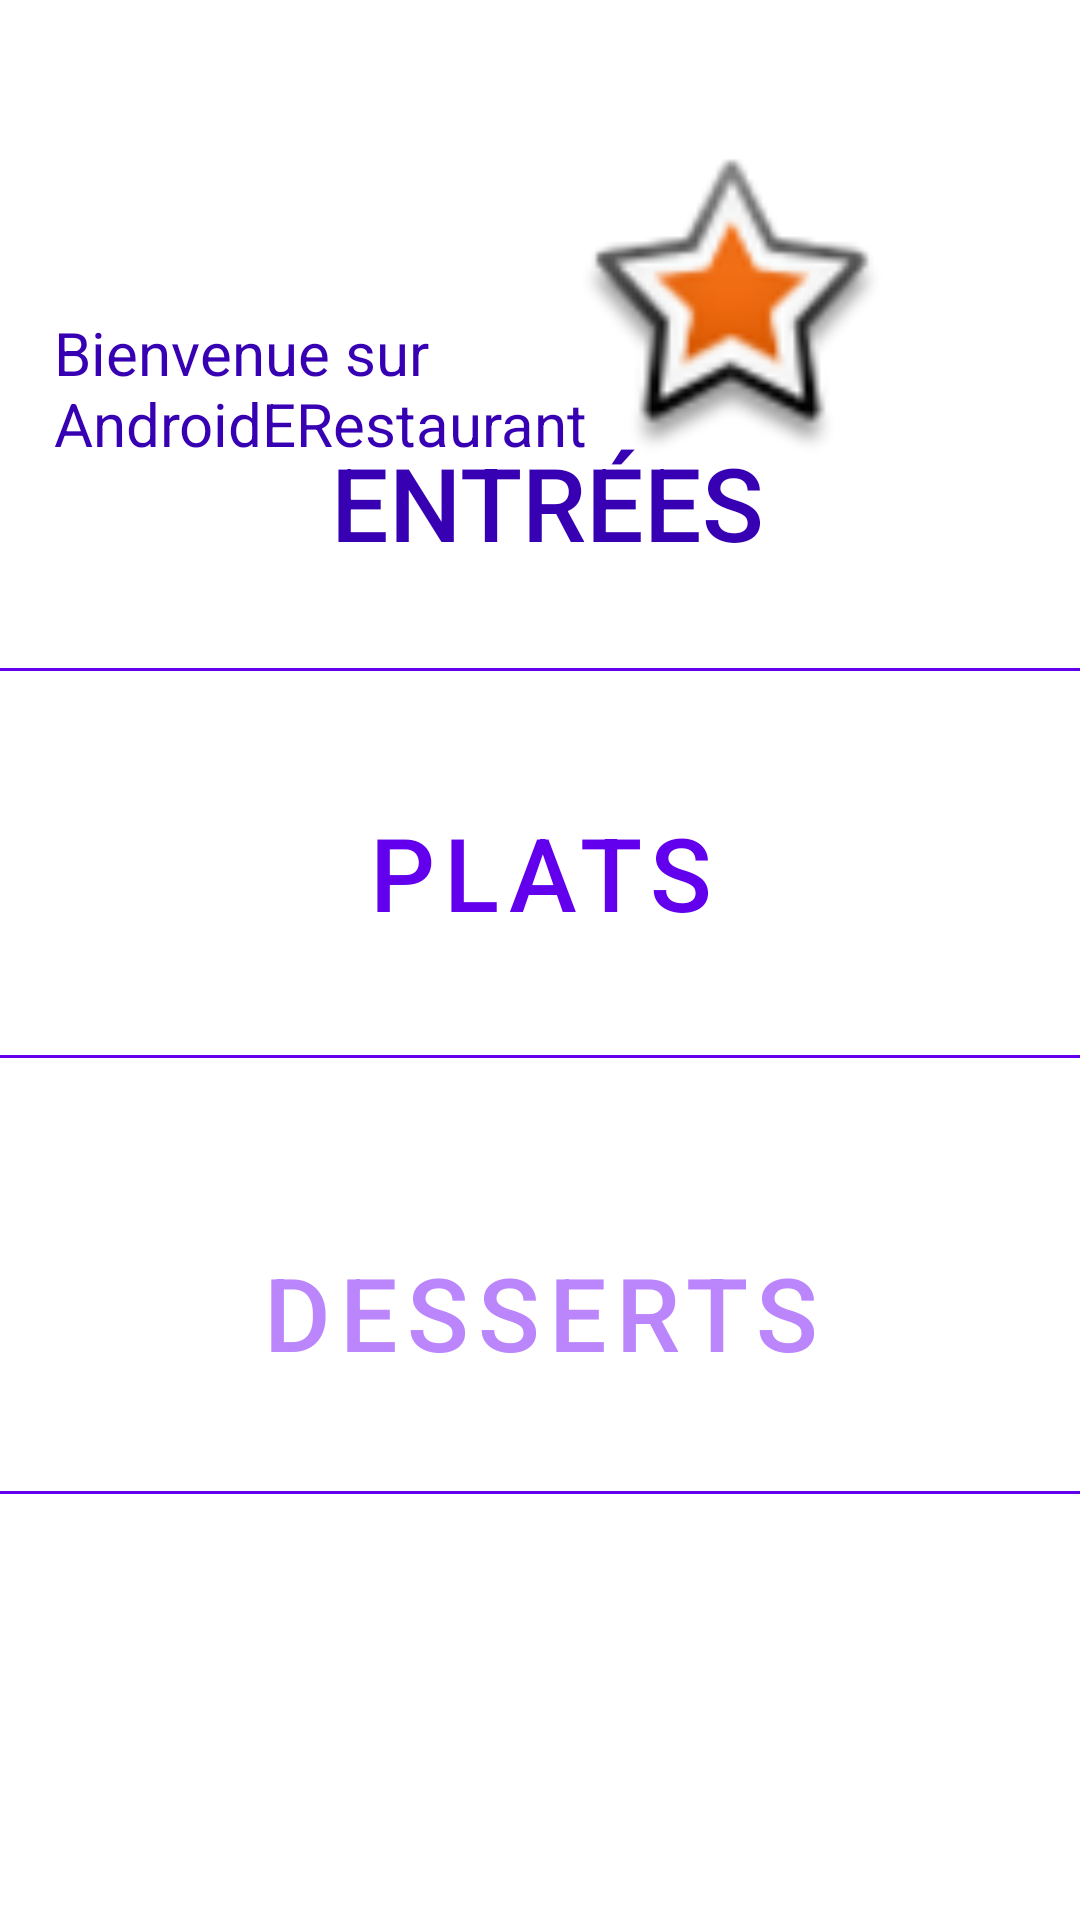

Screen size 1080*1920. Icon name, then its box in pixels as [left=x1, top=y1, right=x2, bottom=y2]:
star on: [left=595, top=160, right=869, bottom=465]
